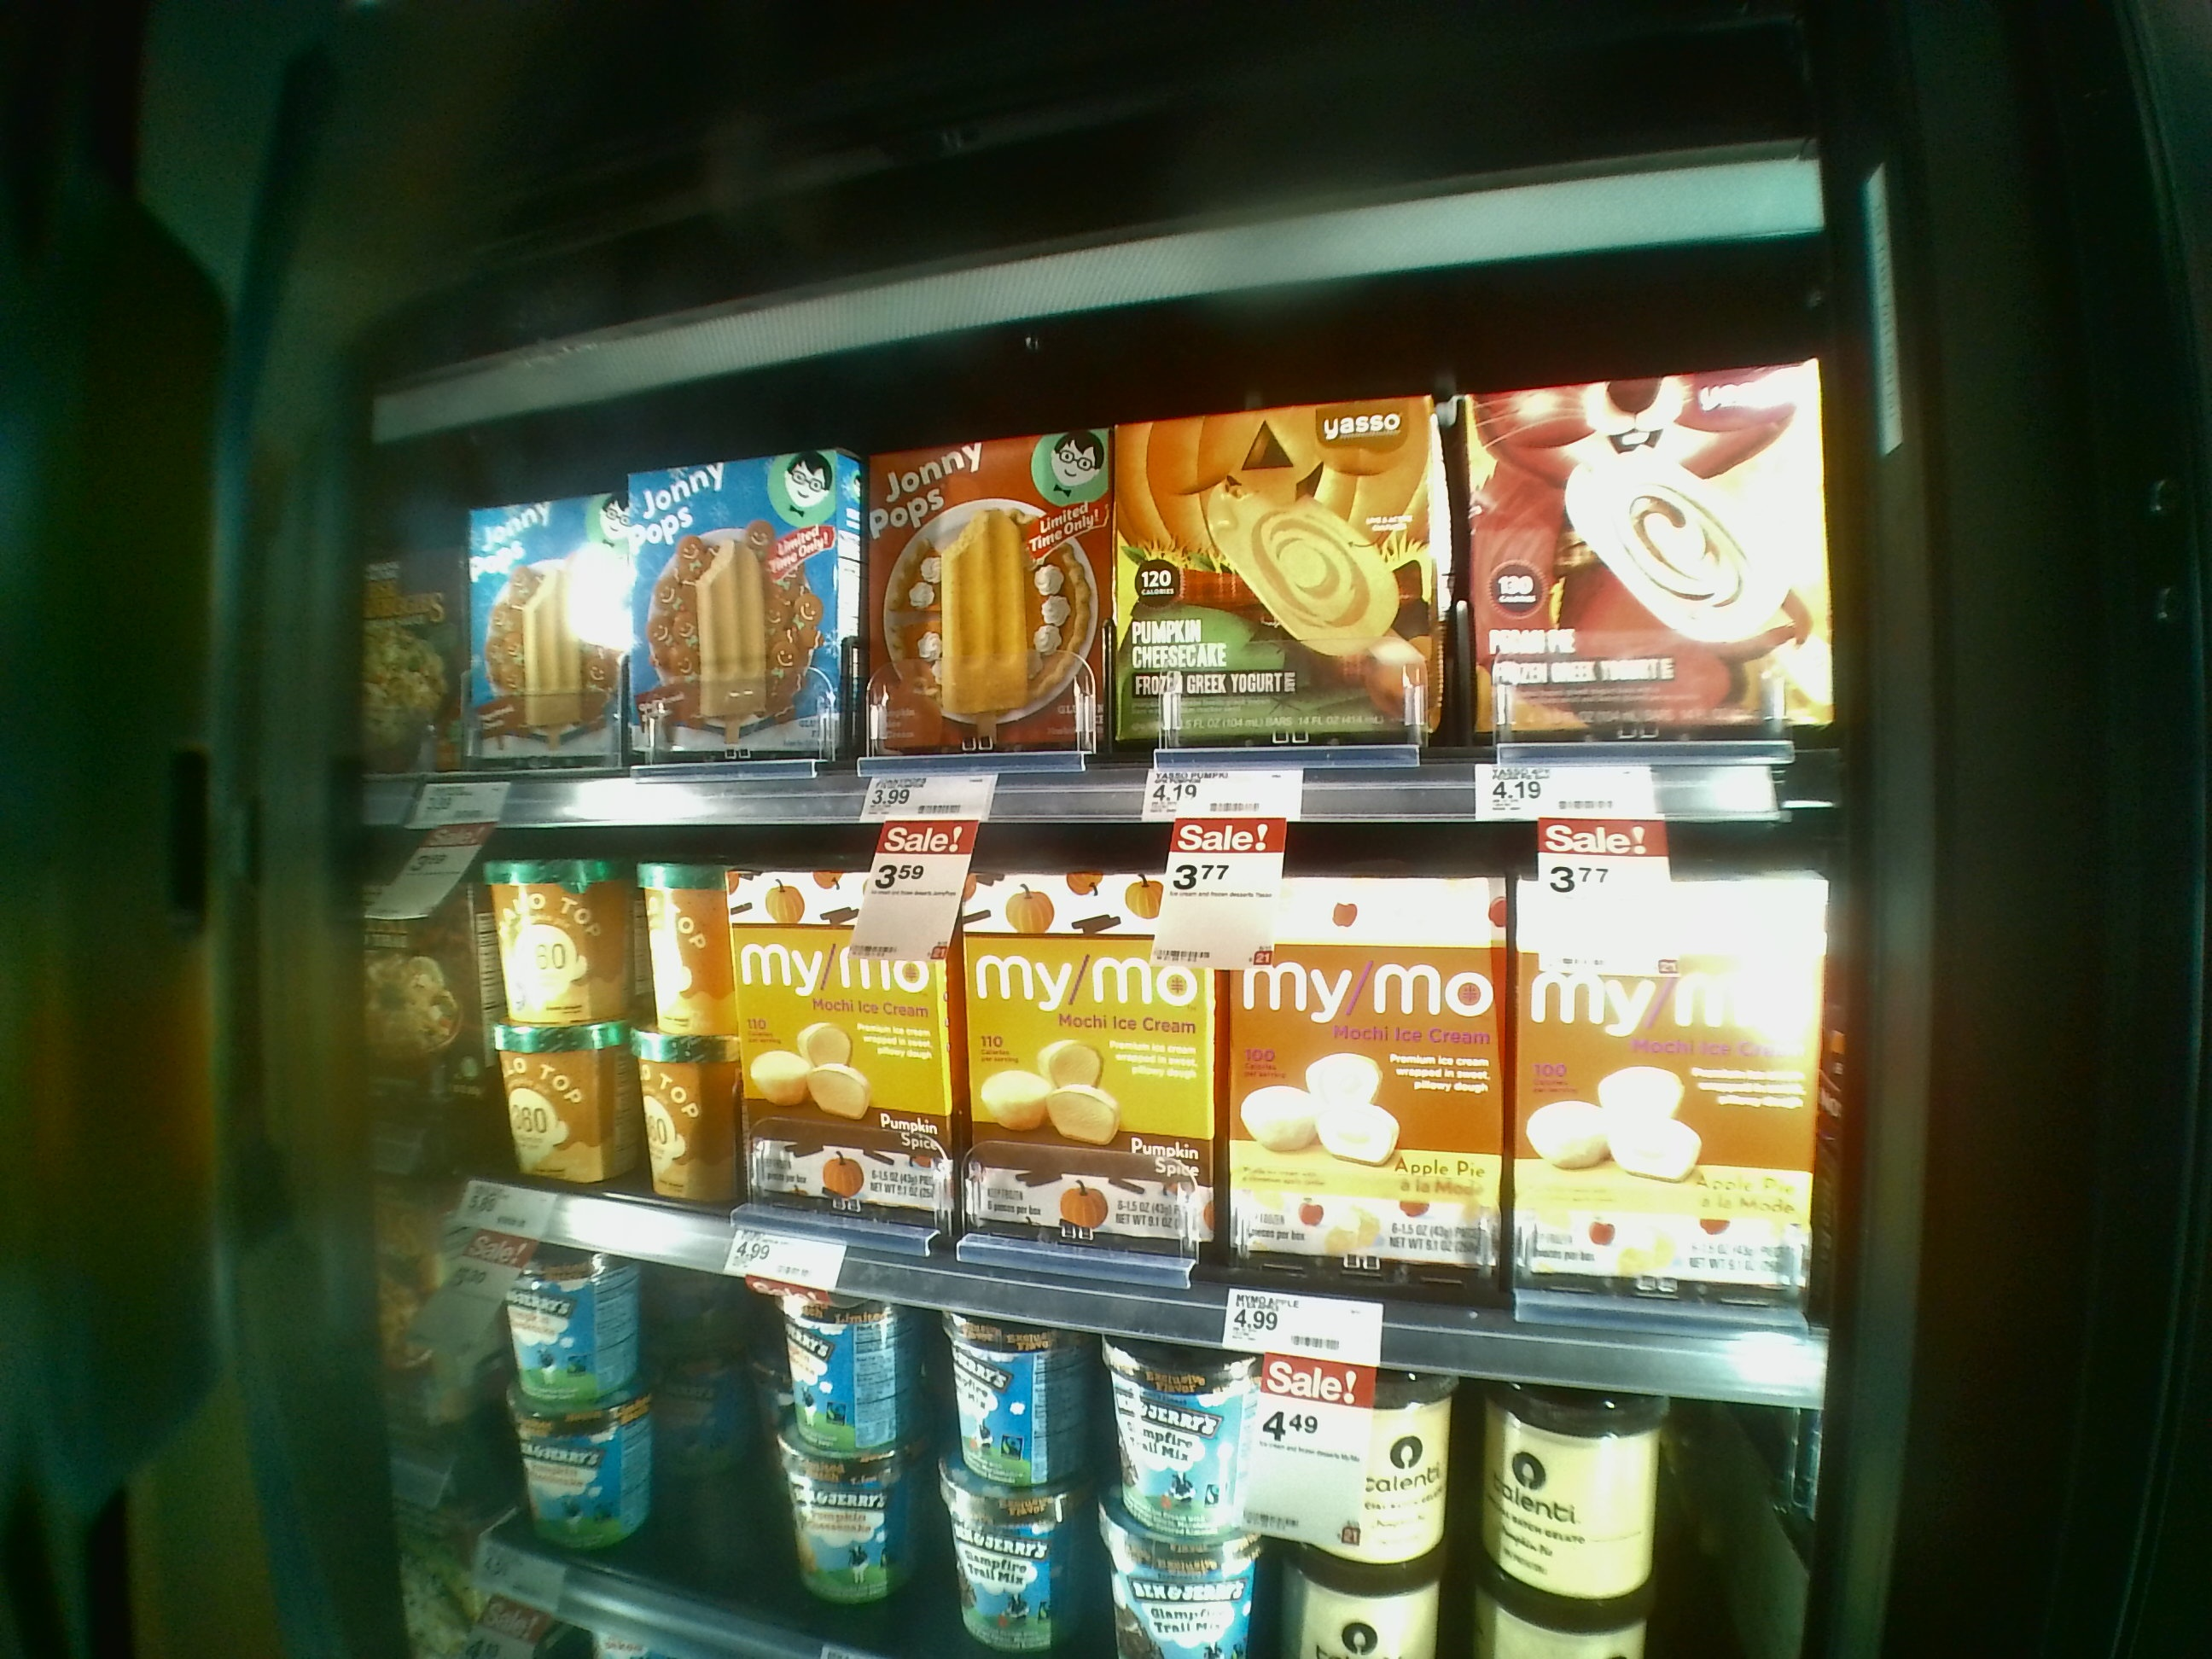shelf: (394, 781, 1834, 1406), (402, 406, 1838, 835)
